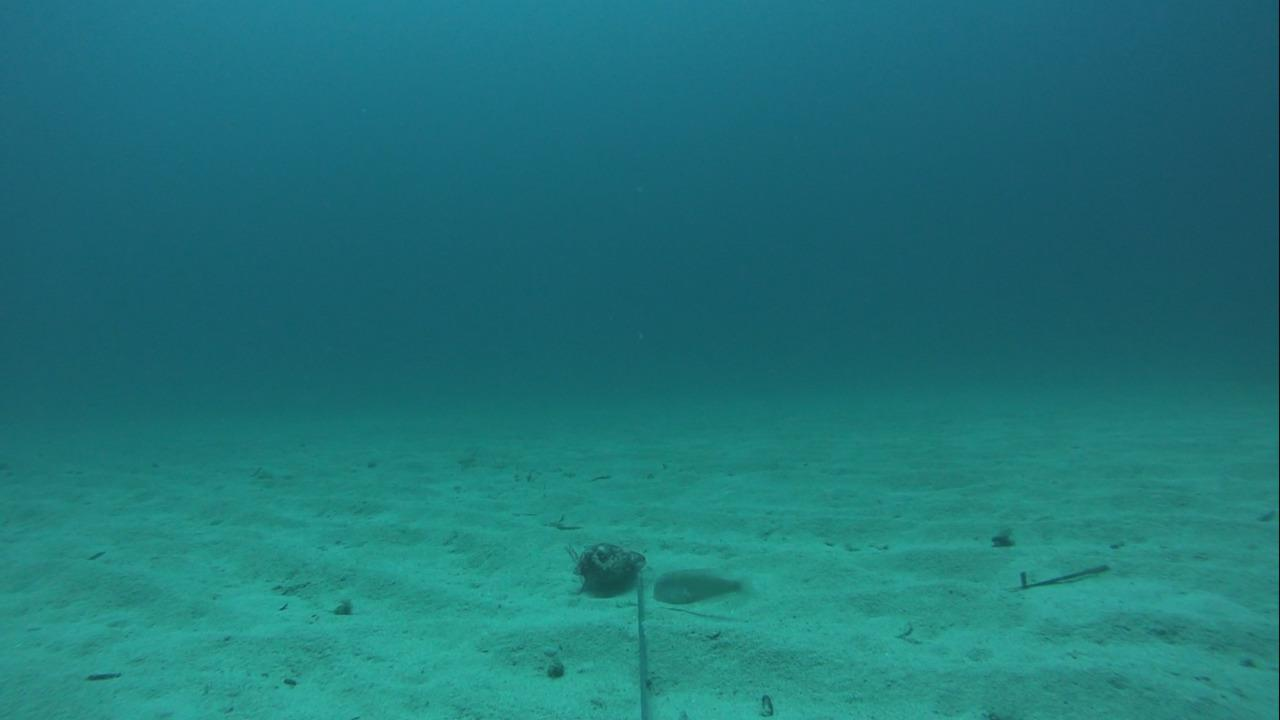raor: (643, 563, 750, 610)
